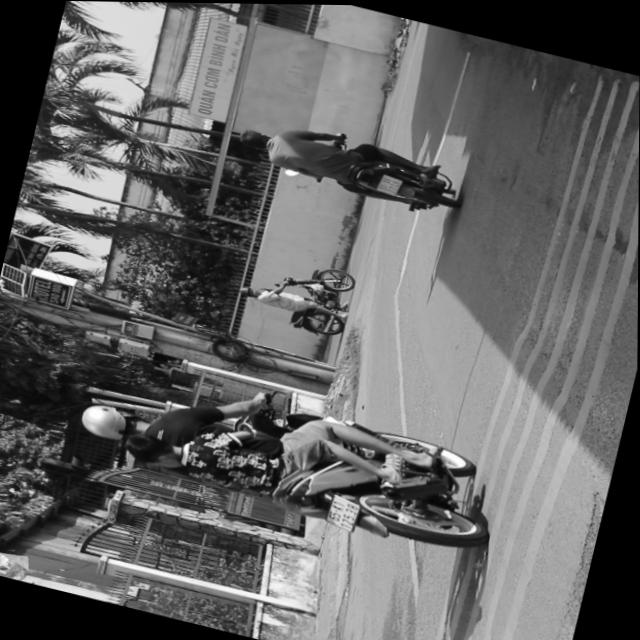helmet: (76, 397, 151, 448)
licenseplate: (66, 351, 506, 565), (228, 109, 466, 221)
motorcyclist: (121, 428, 189, 473), (235, 125, 273, 153)
nohelmet: (324, 490, 362, 531), (376, 172, 401, 194)
